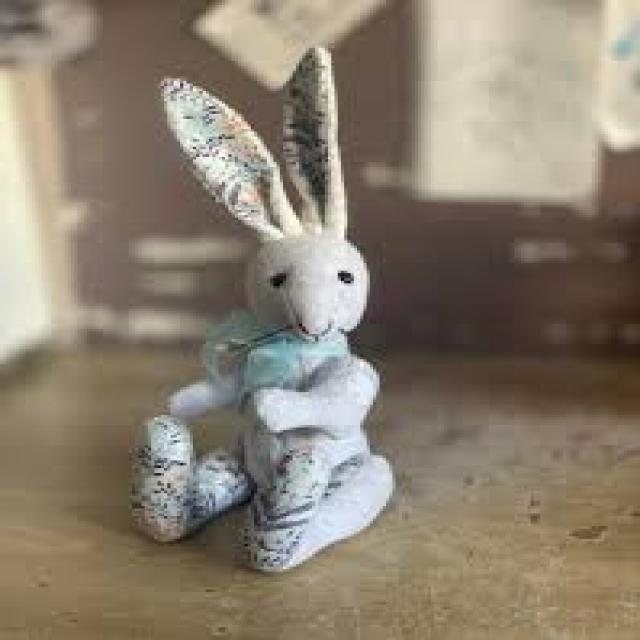soft-toy: (133, 47, 395, 572)
